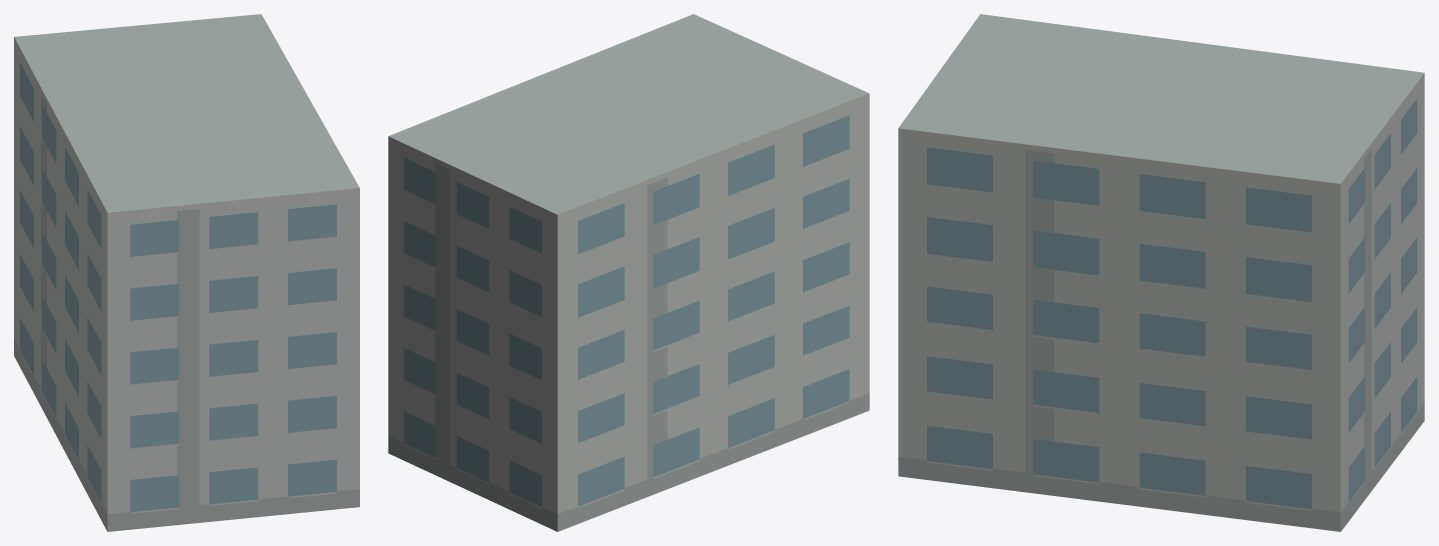
File: survey-upis-33043985.glb
3 views of the same model, side by side, from view 1: azimuth 30°, elevation 25°; view 2: azimuth 150°, elevation 25°; view 3: azimuth 270°, elevation 25° (orthographic). The views are drawn at different scales.
Parts seen in each view (by area): view 1: survey-upis-33043985.tmp; view 2: survey-upis-33043985.tmp; view 3: survey-upis-33043985.tmp.
Part boxes in pixels (<box>): survey-upis-33043985.tmp: <box>14,14,359,531</box>; survey-upis-33043985.tmp: <box>388,14,869,531</box>; survey-upis-33043985.tmp: <box>898,14,1424,531</box>.
Bounding box in the file's own units: 15.92 × 15.2 × 20.84.
